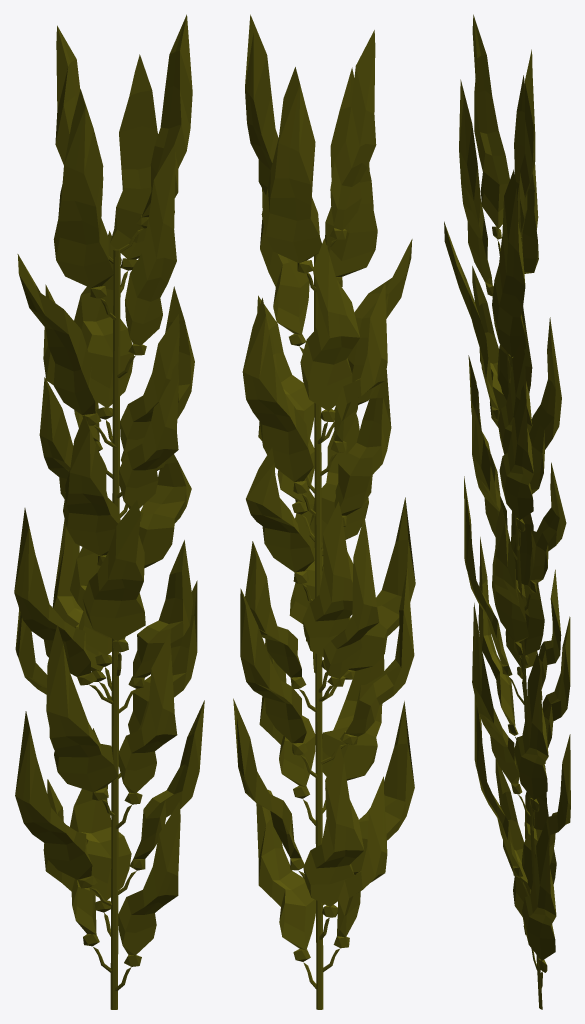
Rendered from LongKelp.fbx.
3 views of the same model, side by side, from view 1: azimuth 30°, elevation 25°; view 2: azimuth 210°, elevation 25°; view 3: azimuth 330°, elevation 25° (orthographic). The views are drawn at different scales.
Parts seen in each view (by area): view 1: reTopKelp; view 2: reTopKelp; view 3: reTopKelp.
Part boxes in pixels (<box>): reTopKelp: <box>14,14,204,1009</box>; reTopKelp: <box>233,14,415,1009</box>; reTopKelp: <box>444,14,570,1009</box>.
Size of the model in its own units: 4982 by 30695 by 3479.
